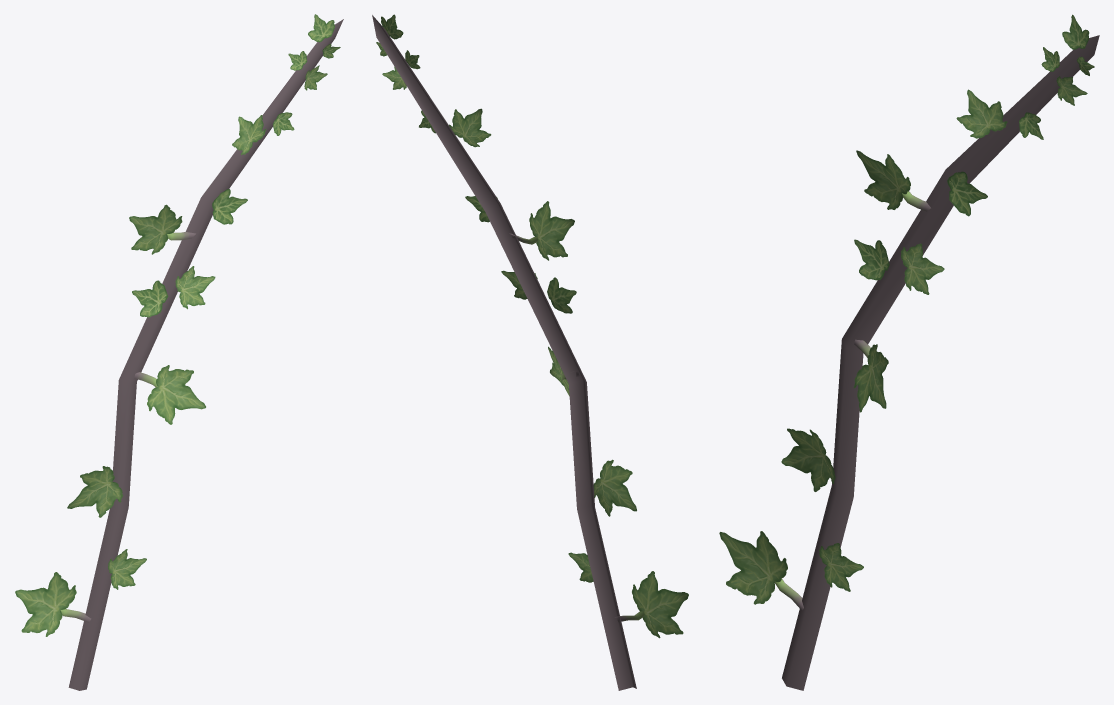
File: IvyVine.fbx
3 views of the same model, side by side, from view 1: azimuth 30°, elevation 25°; view 2: azimuth 150°, elevation 25°; view 3: azimuth 330°, elevation 25° (orthographic). The views are drawn at different scales.
Parts seen in each view (by area): view 1: IvySingle; view 2: IvySingle; view 3: IvySingle.
Part boxes in pixels (left/top/right/bottom): IvySingle: left=15, top=14, right=343, bottom=690; IvySingle: left=372, top=14, right=688, bottom=690; IvySingle: left=719, top=14, right=1099, bottom=690.
Size of the model in its own units: 86.42 by 158 by 13.98.
1 material, 1 textured.
